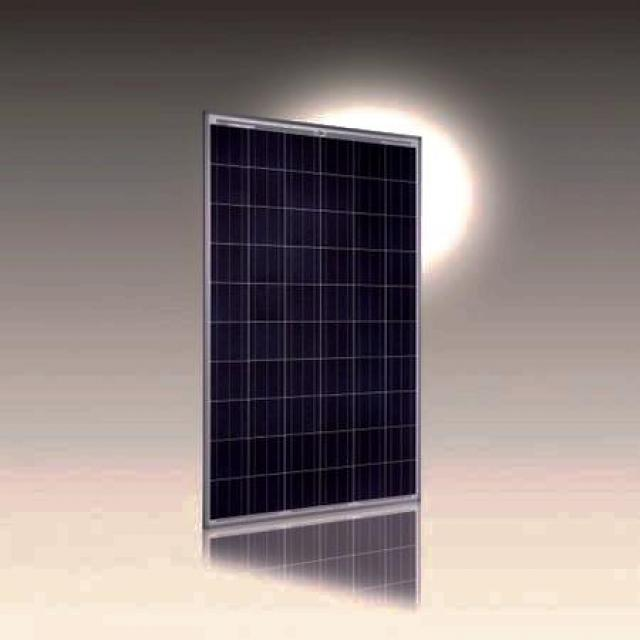no faulty: (208, 117, 423, 532)
